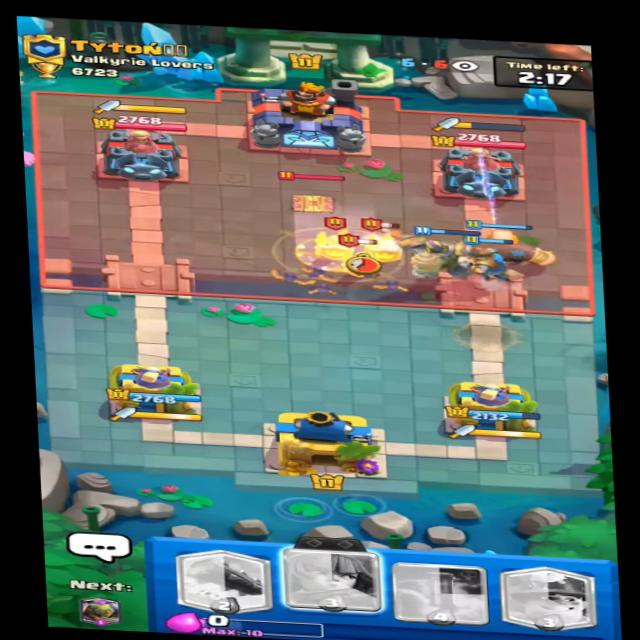guards: (359, 218, 409, 266), (311, 216, 354, 264)
tesla-closed: (273, 168, 355, 219)
